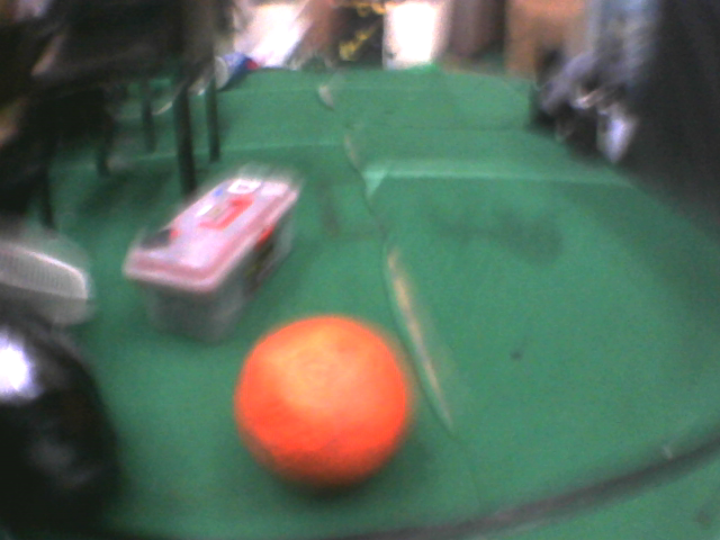bola: (226, 301, 417, 495)
